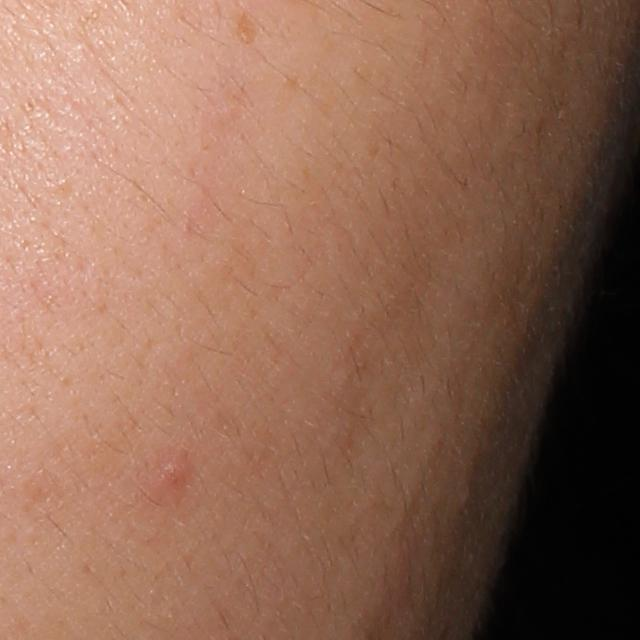melasma: (234, 13, 266, 50)
papule: (143, 450, 197, 496)
